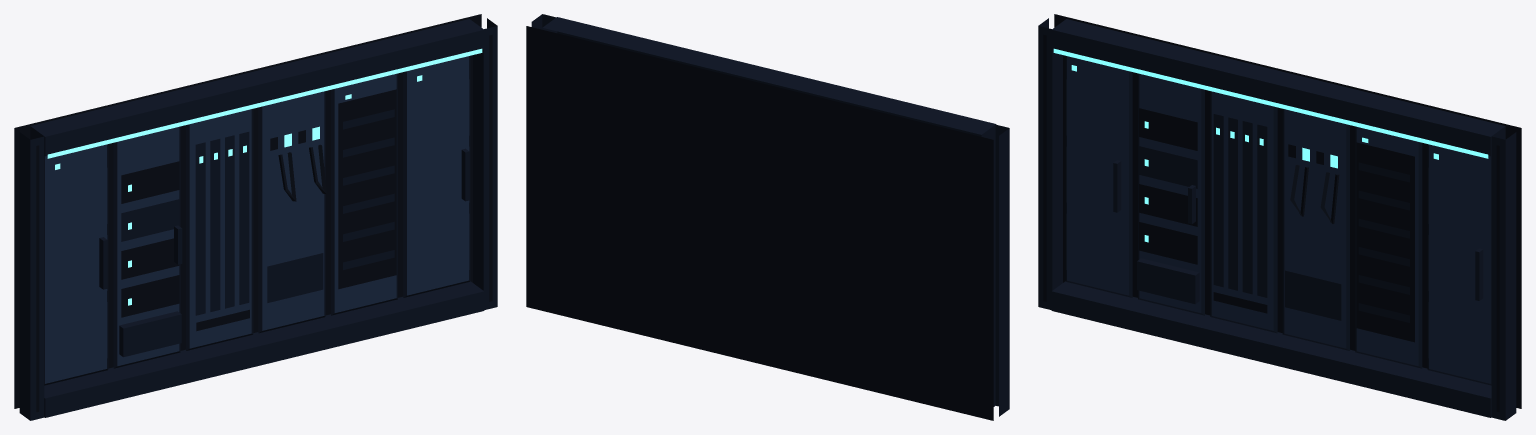
The model's file is RackFacade_V05.fbx.
3 renders of one model, left to right at view 1: azimuth 30°, elevation 25°; view 2: azimuth 150°, elevation 25°; view 3: azimuth 330°, elevation 25°, orthographic.
Parts seen in each view (by area): view 1: KIT_RackFacade_V05_Mesh; view 2: KIT_RackFacade_V05_Mesh; view 3: KIT_RackFacade_V05_Mesh.
Part boxes in pixels (box(x1,y1,x2,y2)): KIT_RackFacade_V05_Mesh: box(14, 14, 497, 420); KIT_RackFacade_V05_Mesh: box(526, 14, 1009, 420); KIT_RackFacade_V05_Mesh: box(1038, 14, 1521, 420).
Bounding box in the file's own units: 4 × 2.3 × 0.2645.
